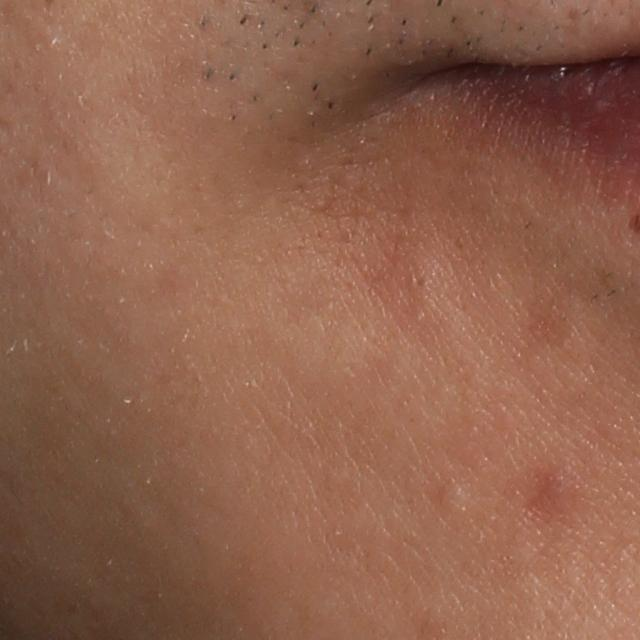comedo: (437, 480, 472, 520)
